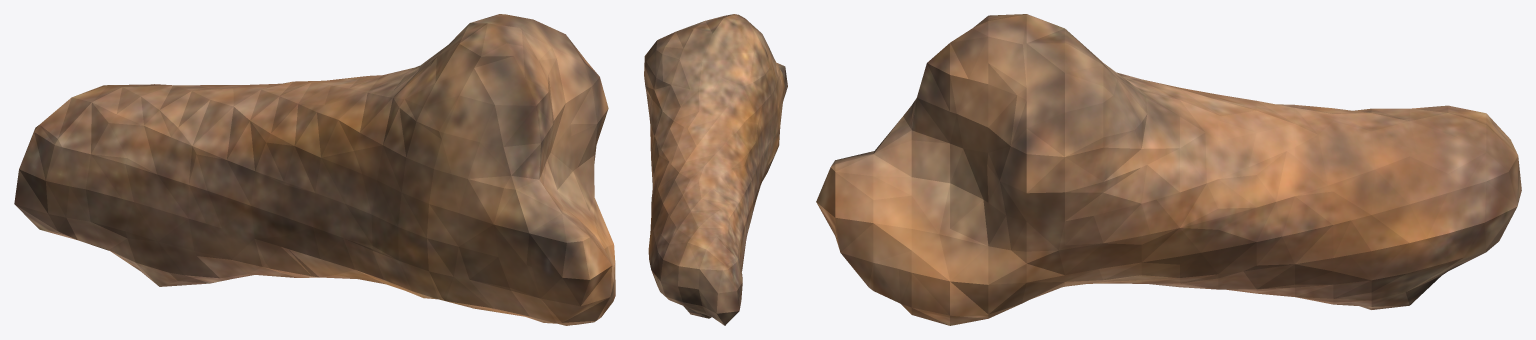
Rendered from MB Lag 3 RAD.obj.
3 views of the same model, side by side, from view 1: azimuth 30°, elevation 25°; view 2: azimuth 150°, elevation 25°; view 3: azimuth 270°, elevation 25° (orthographic). The views are drawn at different scales.
Size of the model in its own units: 11.54 by 10.38 by 18.42.
1 material, 1 textured.
